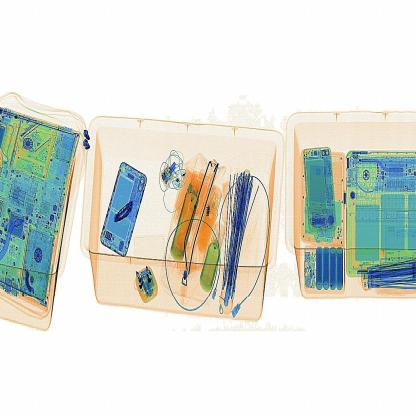knife: (105, 198, 140, 234)
